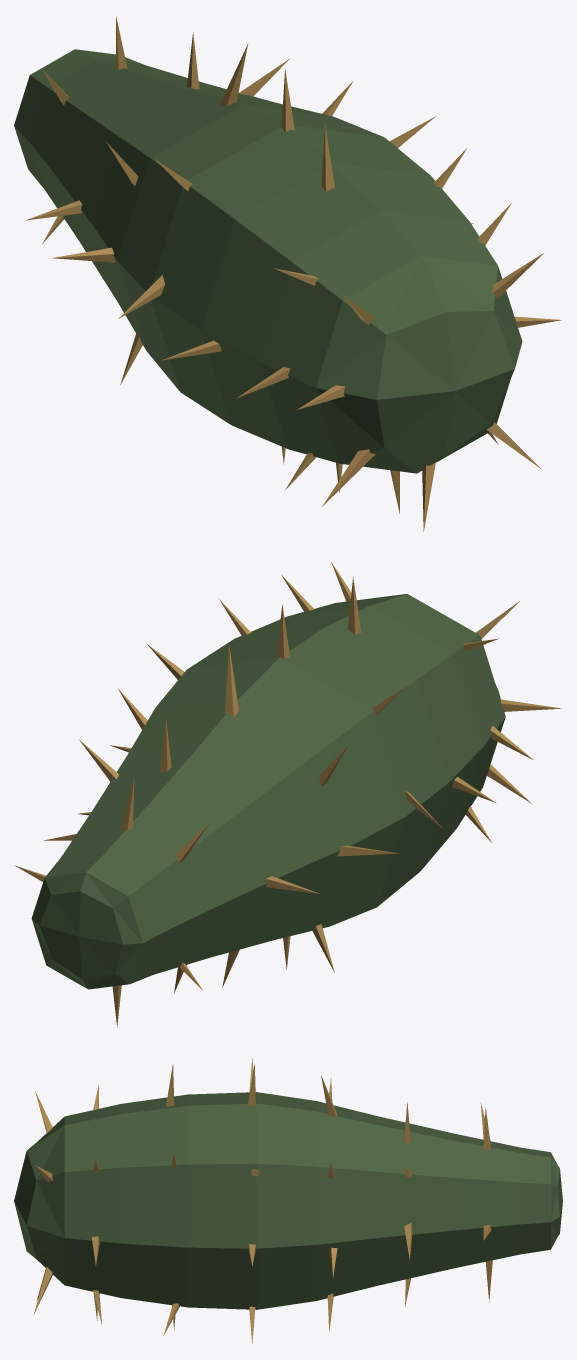
The model's file is cactus-1.obj.
3 views of the same model, one above another, from view 1: azimuth 30°, elevation 25°; view 2: azimuth 150°, elevation 25°; view 3: azimuth 270°, elevation 25° (orthographic). The views are drawn at different scales.
Visible parts, largest first — view 1: cactus-1; view 2: cactus-1; view 3: cactus-1.
Boxes of the visible parts, x1=… form: cactus-1: x1=14, y1=16, x2=561, y2=531; cactus-1: x1=15, y1=562, x2=561, y2=1027; cactus-1: x1=14, y1=1058, x2=562, y2=1343.
Size of the model in its own units: 32.73 by 33.52 by 60.
